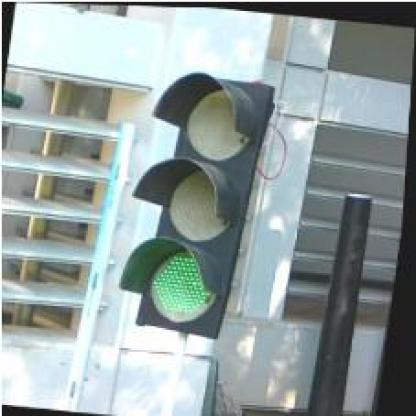green: (117, 67, 279, 336)
